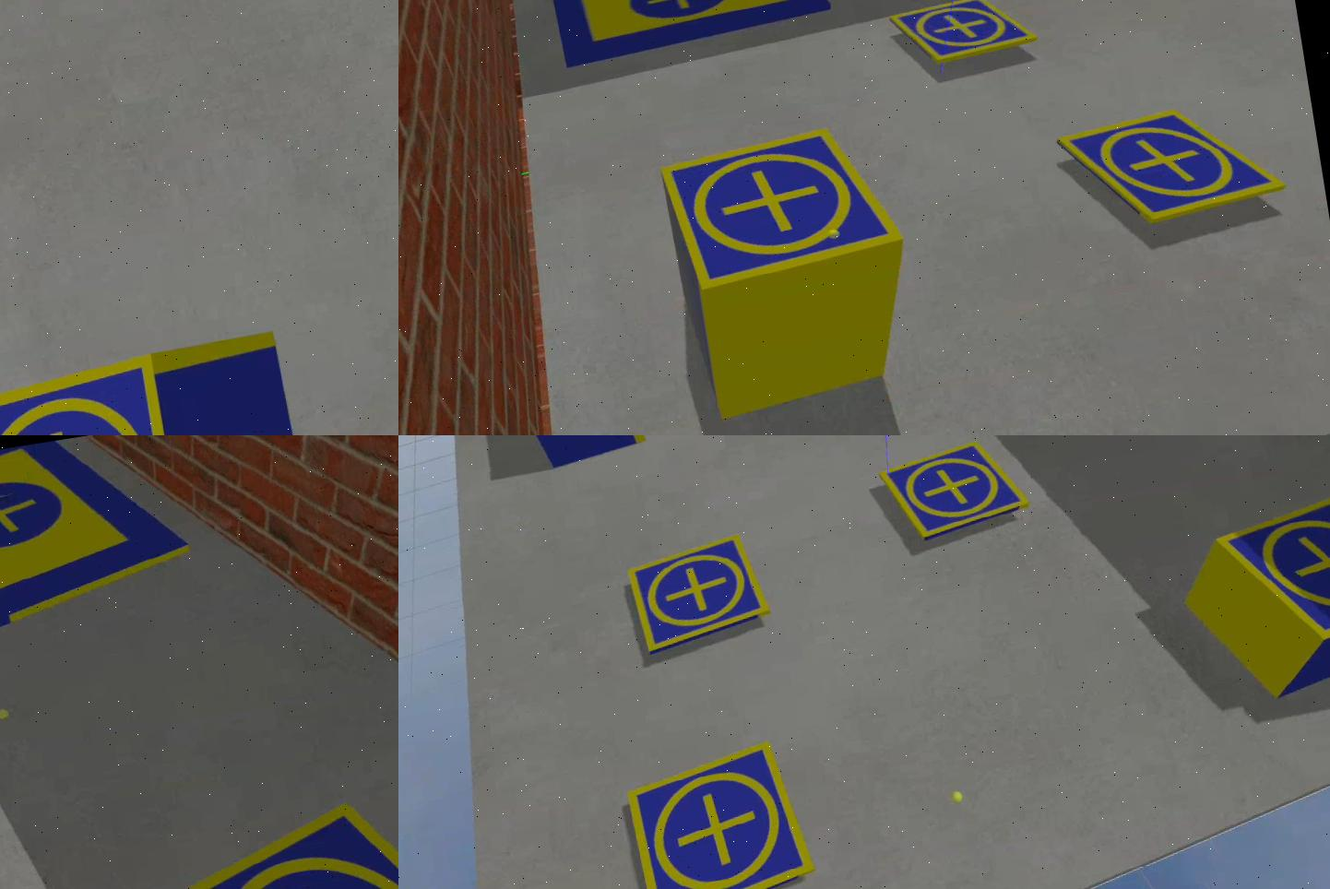large_base: (1, 436, 202, 657), (550, 1, 837, 71)
small_base: (658, 118, 910, 303), (1060, 93, 1293, 244), (621, 740, 818, 889), (1206, 481, 1330, 665), (624, 534, 777, 658), (1, 350, 194, 436), (885, 443, 1034, 545), (889, 1, 1039, 79)
